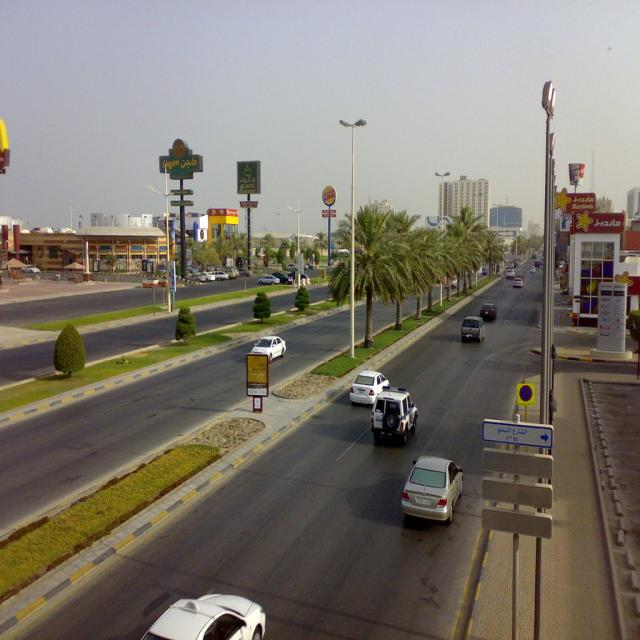car: (401, 460, 462, 528), (371, 383, 416, 444), (460, 314, 485, 339), (480, 303, 496, 319), (256, 273, 278, 282), (512, 274, 521, 285), (505, 267, 513, 276), (529, 266, 534, 272)
